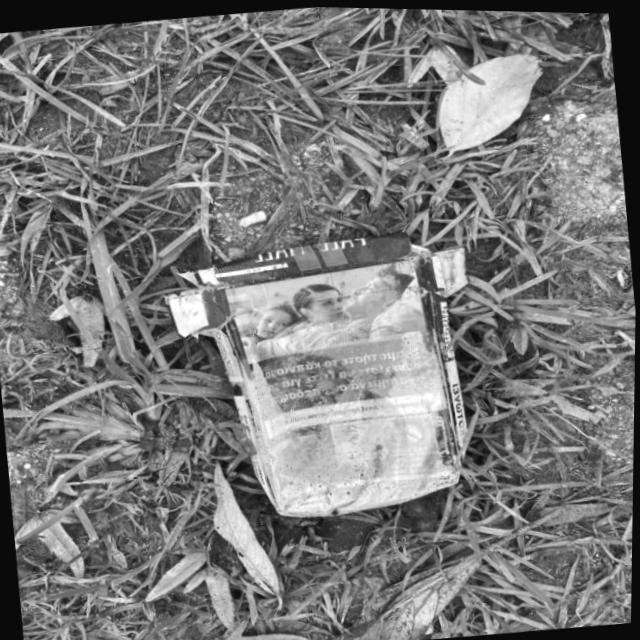Paper: (150, 211, 499, 536)
